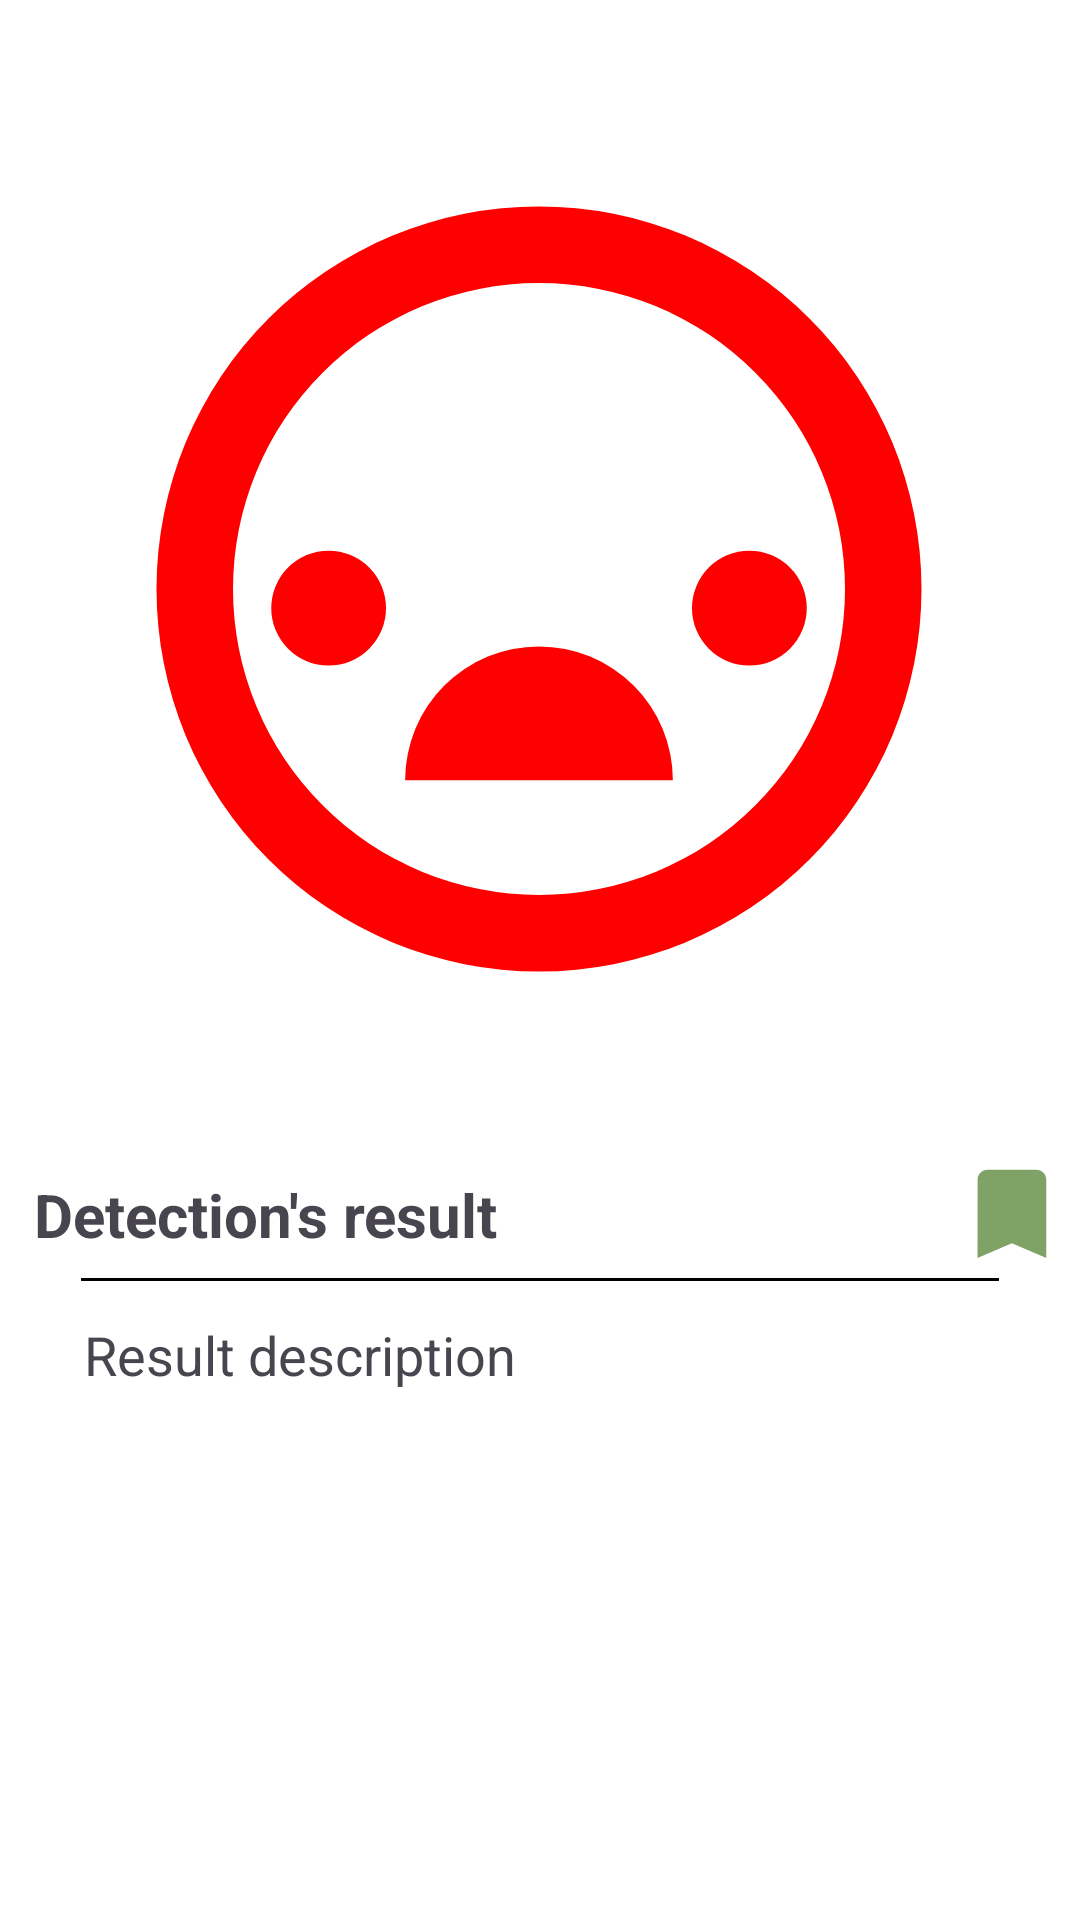

Point at icon controls on the screen. Image size 1080*1920, points as (x,y).
bookmark: (1012,1213)
